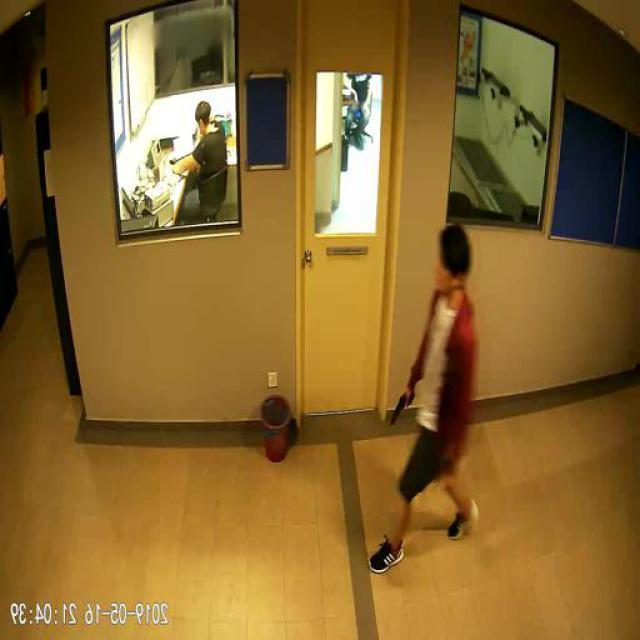Gun: (392, 389, 416, 425)
